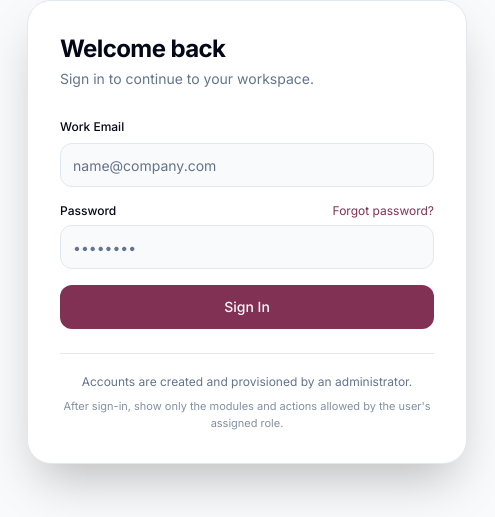
it: LoginForm › should disable button while loading
In the field labelled "Work Email": (247, 165) [60, 143, 434, 187], type "test@hack.dev"
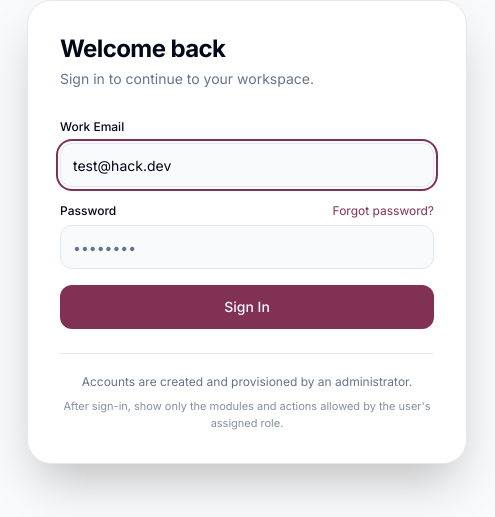
In the password field labelled "Password": (247, 247) [60, 225, 434, 269], type "password123"
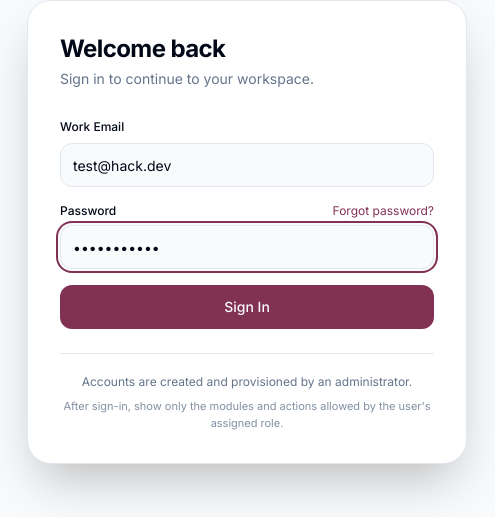
Click the button "Sign In": (247, 307) [60, 285, 434, 329]
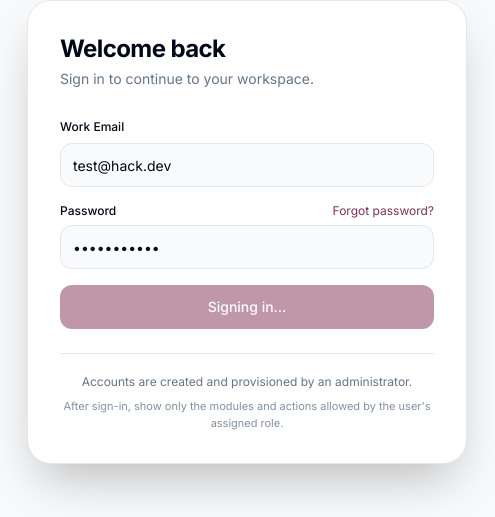
Expected: the button is disabled, [60, 285, 434, 329]
Expected: the button reads "Signing in...", [60, 285, 434, 329]
